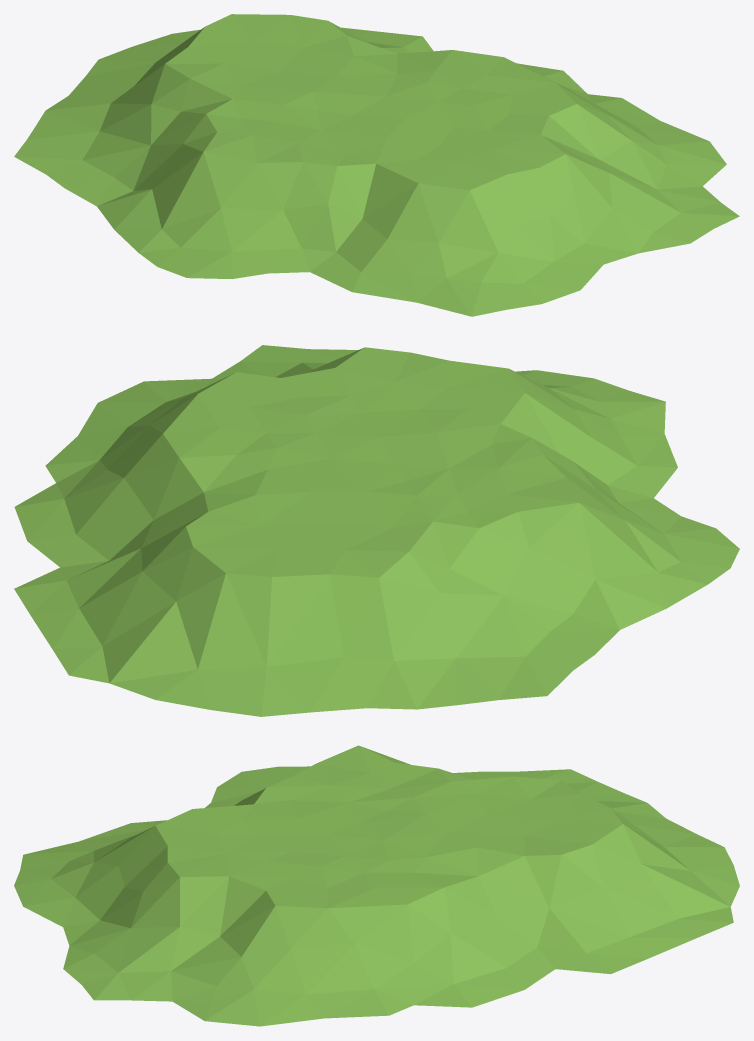
Rendered from MT_Mountain_M_b_16_LOD.fbx.
The picture shows the model from 3 angles, top to bottom: view 1: azimuth 30°, elevation 25°; view 2: azimuth 150°, elevation 25°; view 3: azimuth 270°, elevation 25°; orthographic projection. The views are drawn at different scales.
Visible parts, largest first — view 1: MT_Mountain_M_b_16_LOD0; view 2: MT_Mountain_M_b_16_LOD0; view 3: MT_Mountain_M_b_16_LOD0.
Boxes of the visible parts, box(x1,y1,x2,y2) form: MT_Mountain_M_b_16_LOD0: box(14, 14, 739, 316); MT_Mountain_M_b_16_LOD0: box(14, 345, 739, 716); MT_Mountain_M_b_16_LOD0: box(14, 745, 739, 1026).
Size of what is drawn, in the model's own units: 3906 by 441 by 4609.
